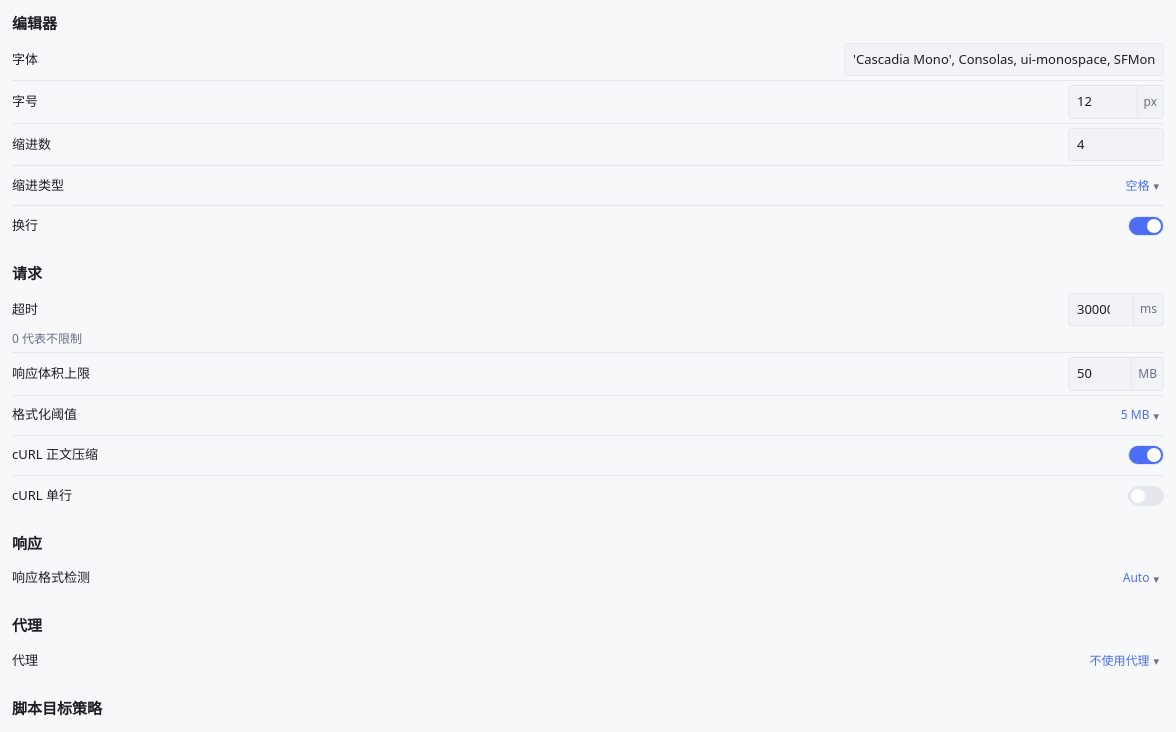
设置模态的编辑器配置节 › 缩进类型下拉给出「空格 / Tab」两项
Click the button with test id "editor-indent-type" at (1142, 186), box [1120,174,1164,198]
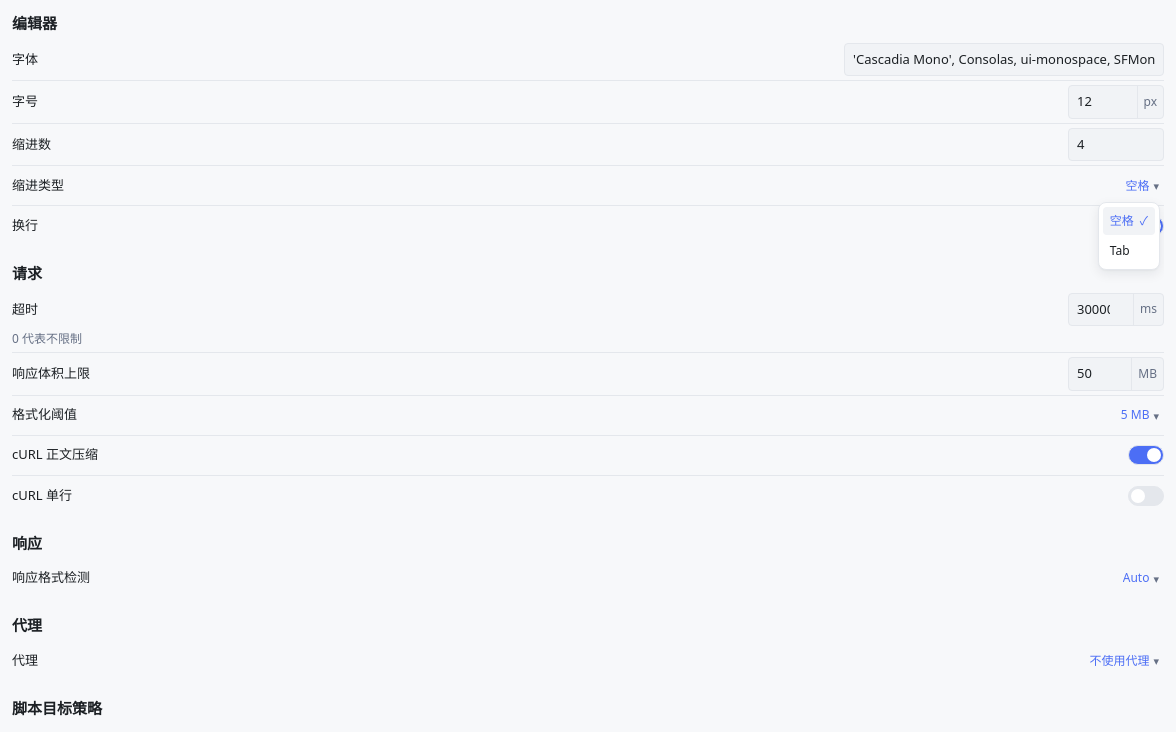
Check: the option "空格 ✓" is shown, box [1103,206,1155,234]
Check: the text "Tab" is shown, box [1110,242,1130,260]
